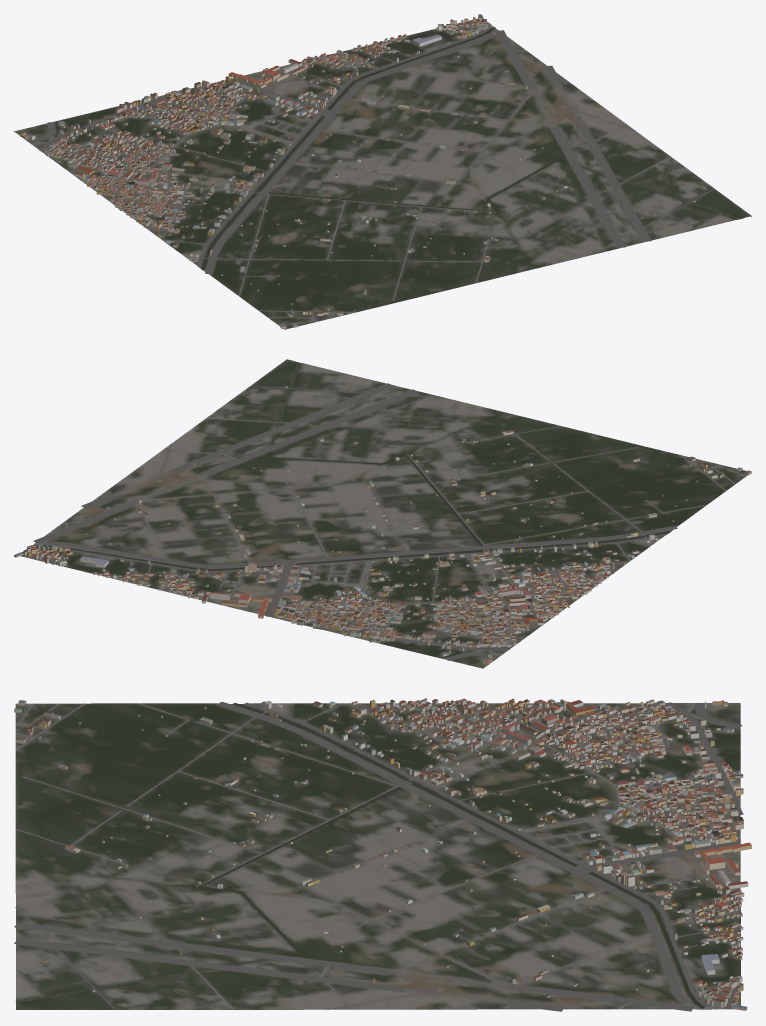
3 views of the same model, one above another, from view 1: azimuth 30°, elevation 25°; view 2: azimuth 150°, elevation 25°; view 3: azimuth 270°, elevation 25° (orthographic). The views are drawn at different scales.
Visible parts, largest first — view 1: ground, buildings, roads, water; view 2: ground, buildings, roads, water; view 3: ground, buildings, roads, water.
Part boxes in pixels (left/top/right/bottom): ground: left=14, top=18, right=751, bottom=329; buildings: left=20, top=14, right=695, bottom=328; roads: left=28, top=19, right=714, bottom=324; water: left=128, top=27, right=740, bottom=270; ground: left=20, top=359, right=747, bottom=668; buildings: left=14, top=383, right=751, bottom=664; roads: left=22, top=383, right=745, bottom=660; water: left=35, top=362, right=671, bottom=601; ground: left=15, top=703, right=740, bottom=1009; buildings: left=14, top=698, right=751, bottom=1010; roads: left=14, top=701, right=743, bottom=1011; water: left=15, top=703, right=706, bottom=1009.
Size of the model in its own units: 1418 by 26.83 by 1427.
